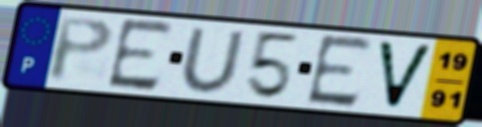5: (242, 31, 304, 101)
E: (303, 32, 377, 110), (104, 16, 177, 94)
P: (46, 15, 117, 85)
U: (178, 26, 248, 96)
V: (374, 38, 437, 112)
